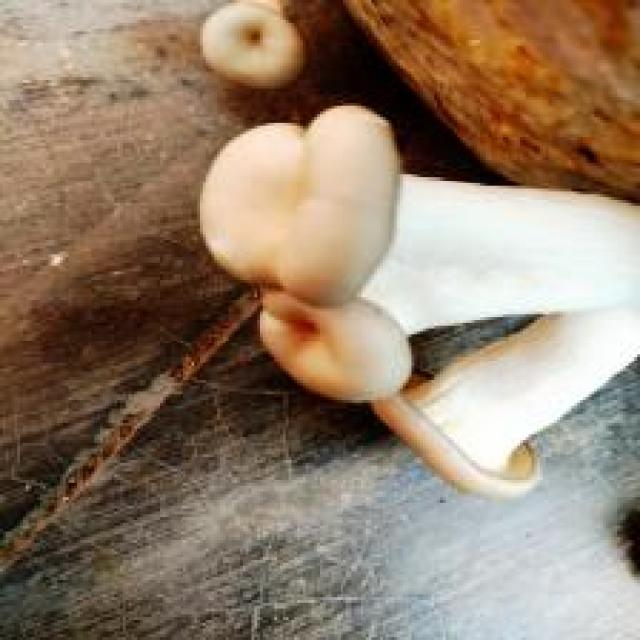field-mushroom: (194, 100, 637, 500)
